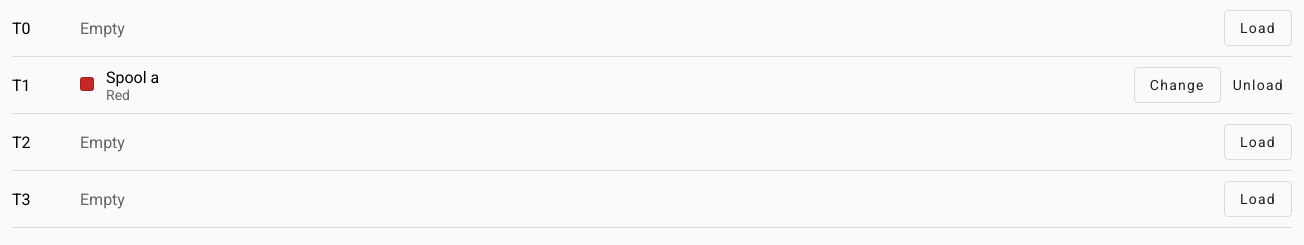
Test: PrinterSlotsComponent › says so when the spool moved from another slot
Click the button "Load".
click(1258, 199)  # box left=1224, top=181, right=1292, bottom=217
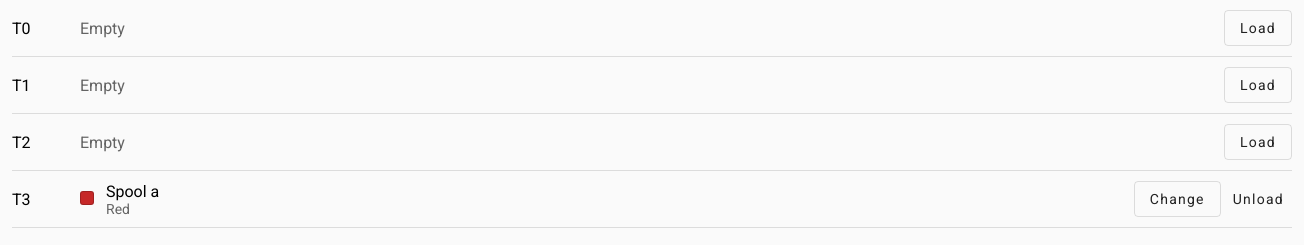
Expected: the list item with test id "printer-slot" shows "Empty", left=80, top=76, right=125, bottom=94
